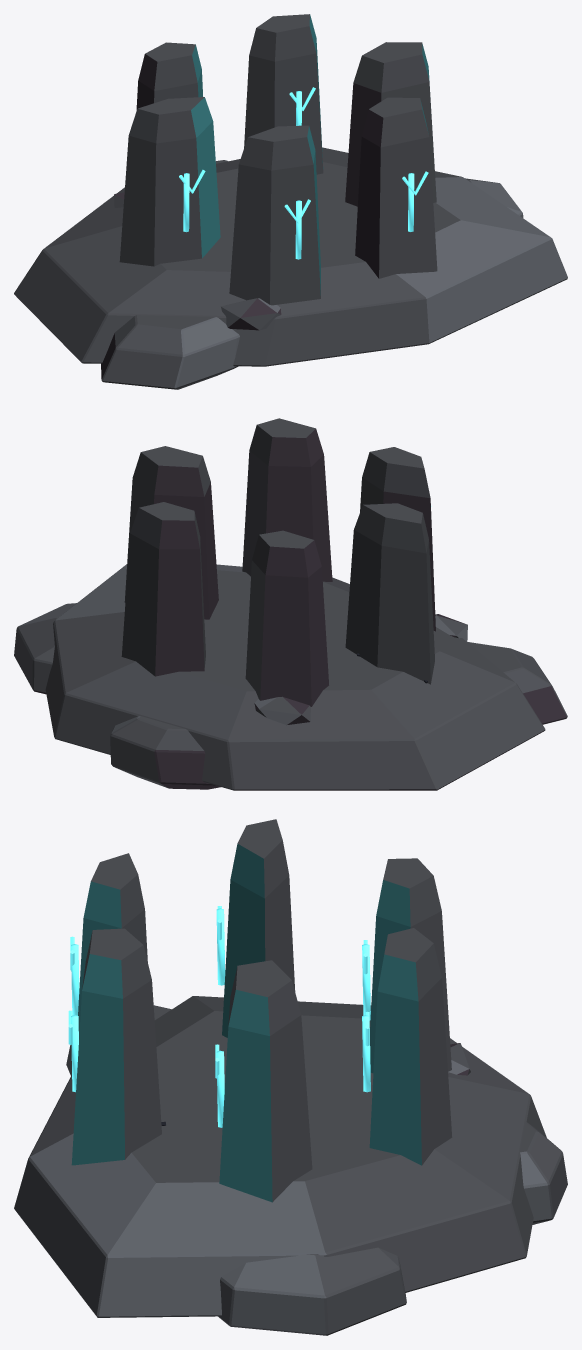
Rendered from BH_ORE_O05_Rocha_das_Runas_V02.glb.
3 renders of one model, top to bottom at view 1: azimuth 30°, elevation 25°; view 2: azimuth 150°, elevation 25°; view 3: azimuth 270°, elevation 25°, orthographic. The views are drawn at different scales.
Parts seen in each view (by area): view 1: Bedrock | primary.003, Rune slab 4.003, Rune slab 5.003, Rune slab 6.003, Bedrock | shoulder 1.003, Rune slab 2.003, Rune slab 1.003, Rune slab 3.003, O05 | V02 embedded stone ledge.003, Bedrock | shoulder 2.003; view 2: Bedrock | primary.003, Rune slab 4.003, Rune slab 2.003, Rune slab 3.003, Rune slab 6.003, Rune slab 1.003, Bedrock | shoulder 3.003, Rune slab 5.003, Bedrock | shoulder 1.003, Bedrock | shoulder 2.003, O05 | V02 embedded stone ledge.002, O05 | V02 embedded stone ledge.003; view 3: Bedrock | primary.003, Rune slab 1.003, Rune slab 6.003, Rune slab 2.003, Bedrock | shoulder 2.003, Rune slab 4.003, Rune slab 3.003, Rune slab 5.003, Bedrock | shoulder 3.003.
Part boxes in pixels (x1,y1,x2,y2): Bedrock | primary.003: [14, 147, 567, 366]; Rune slab 4.003: [119, 97, 220, 266]; Rune slab 5.003: [229, 125, 320, 305]; Rune slab 6.003: [355, 97, 437, 278]; Bedrock | shoulder 1.003: [101, 315, 239, 389]; Rune slab 2.003: [244, 14, 323, 174]; Rune slab 1.003: [345, 42, 436, 206]; Rune slab 3.003: [136, 42, 202, 109]; O05 | V02 embedded stone ledge.003: [221, 298, 281, 330]; Bedrock | shoulder 2.003: [465, 178, 523, 217]; Bedrock | primary.003: [45, 564, 545, 790]; Rune slab 4.003: [345, 503, 434, 684]; Rune slab 2.003: [121, 502, 205, 676]; Rune slab 3.003: [245, 530, 328, 706]; Rune slab 6.003: [242, 418, 332, 581]; Rune slab 1.003: [124, 446, 218, 619]; Bedrock | shoulder 3.003: [110, 716, 220, 789]; Rune slab 5.003: [360, 447, 435, 631]; Bedrock | shoulder 1.003: [467, 642, 567, 724]; Bedrock | shoulder 2.003: [14, 603, 76, 694]; O05 | V02 embedded stone ledge.002: [254, 696, 310, 724]; O05 | V02 embedded stone ledge.003: [435, 614, 467, 641]; Bedrock | primary.003: [14, 996, 546, 1317]; Rune slab 1.003: [219, 960, 312, 1202]; Rune slab 6.003: [71, 928, 161, 1165]; Rune slab 2.003: [369, 928, 452, 1165]; Bedrock | shoulder 2.003: [218, 1247, 406, 1335]; Rune slab 4.003: [222, 819, 295, 1037]; Rune slab 3.003: [370, 858, 451, 1073]; Rune slab 5.003: [78, 853, 147, 1038]; Bedrock | shoulder 3.003: [520, 1122, 567, 1224].
Bounding box in the file's own units: 2.99 × 1.37 × 2.33.
